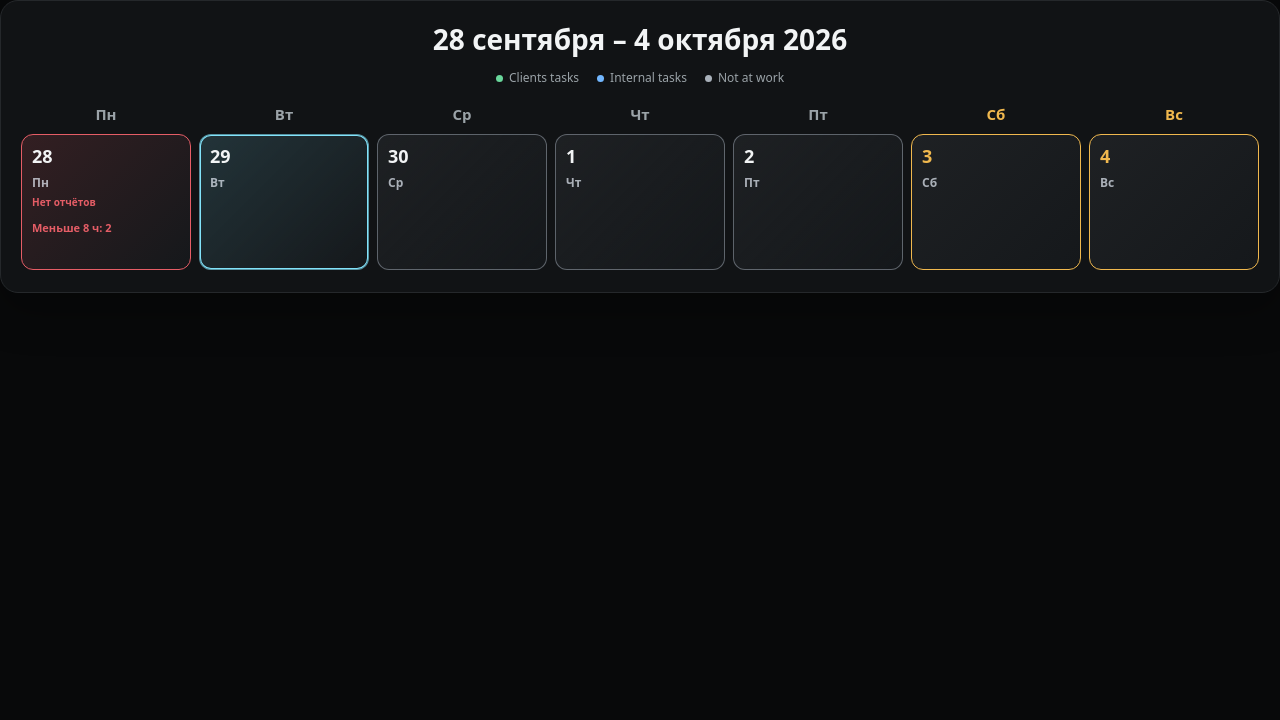
Test: week calendar hour warnings › opens today's summary without reports while leaving the calendar card unmarked
Click the button named "Все отчёты за 29: 0" at (284, 157), box [210,147,358,166]
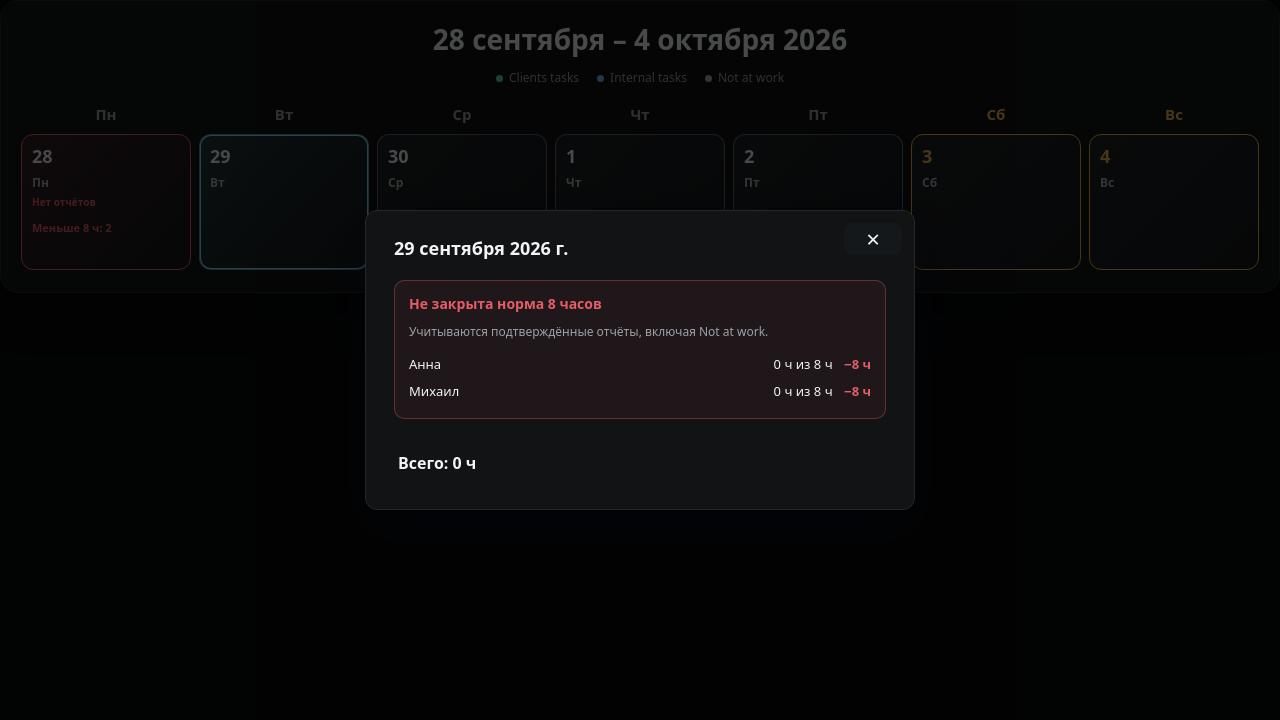
Expected: the element named "Недостающие часы" does not show "Бывший сотрудник", [394,280,886,419]
Now the number of list items is 2, box [409,351,871,378]; [409,378,871,406]
